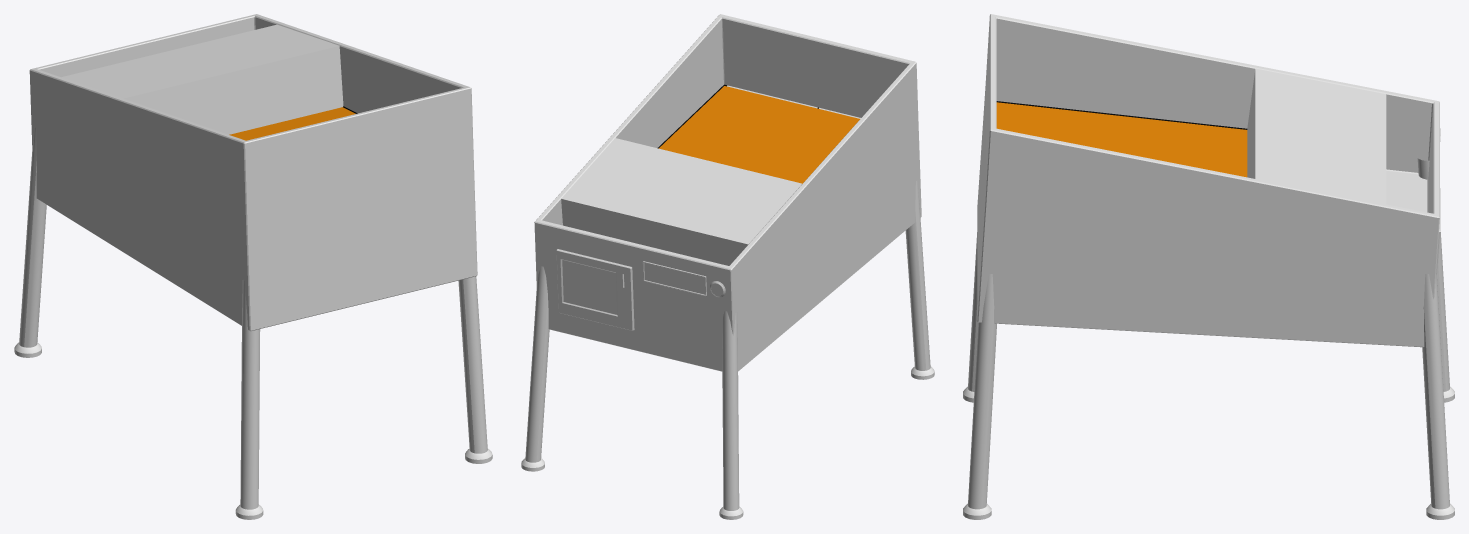
File: ArcadeMachine.fbx
The picture shows the model from 3 angles, left to right: view 1: azimuth 30°, elevation 25°; view 2: azimuth 150°, elevation 25°; view 3: azimuth 270°, elevation 25°; orthographic projection. The views are drawn at different scales.
Visible parts, largest first — view 1: Arcade, ActionAreaCube, Leg.001, Leg, Leg.003, ActionArea; view 2: Arcade, ActionAreaCube, ActionArea, MoneySlot, Leg.003, Leg.002, Leg.001, Button Sign; view 3: Arcade, ActionAreaCube, ActionArea, Leg.002, Leg, Leg.003, Leg.001.
Part boxes in pixels (left/top/right/bottom): Arcade: left=29, top=14, right=477, bottom=331; ActionAreaCube: left=61, top=24, right=343, bottom=134; Leg.001: left=235, top=280, right=263, bottom=519; Leg: left=458, top=276, right=492, bottom=463; Leg.003: left=14, top=127, right=46, bottom=357; ActionArea: left=229, top=107, right=355, bottom=140; Arcade: left=534, top=14, right=921, bottom=371; ActionAreaCube: left=561, top=138, right=801, bottom=265; ActionArea: left=659, top=86, right=859, bottom=183; MoneySlot: left=556, top=249, right=634, bottom=330; Leg.003: left=719, top=311, right=743, bottom=519; Leg.002: left=521, top=266, right=549, bottom=471; Leg.001: left=905, top=180, right=934, bottom=379; Button Sign: left=642, top=261, right=706, bottom=296; Arcade: left=977, top=14, right=1439, bottom=347; ActionAreaCube: left=1247, top=68, right=1386, bottom=204; ActionArea: left=996, top=102, right=1247, bottom=177; Leg.002: left=1422, top=269, right=1454, bottom=519; Leg: left=963, top=274, right=996, bottom=519; Leg.003: left=1417, top=156, right=1454, bottom=402; Leg.001: left=963, top=232, right=978, bottom=402.
Size of the model in its own units: 88.68 by 123 by 143.
